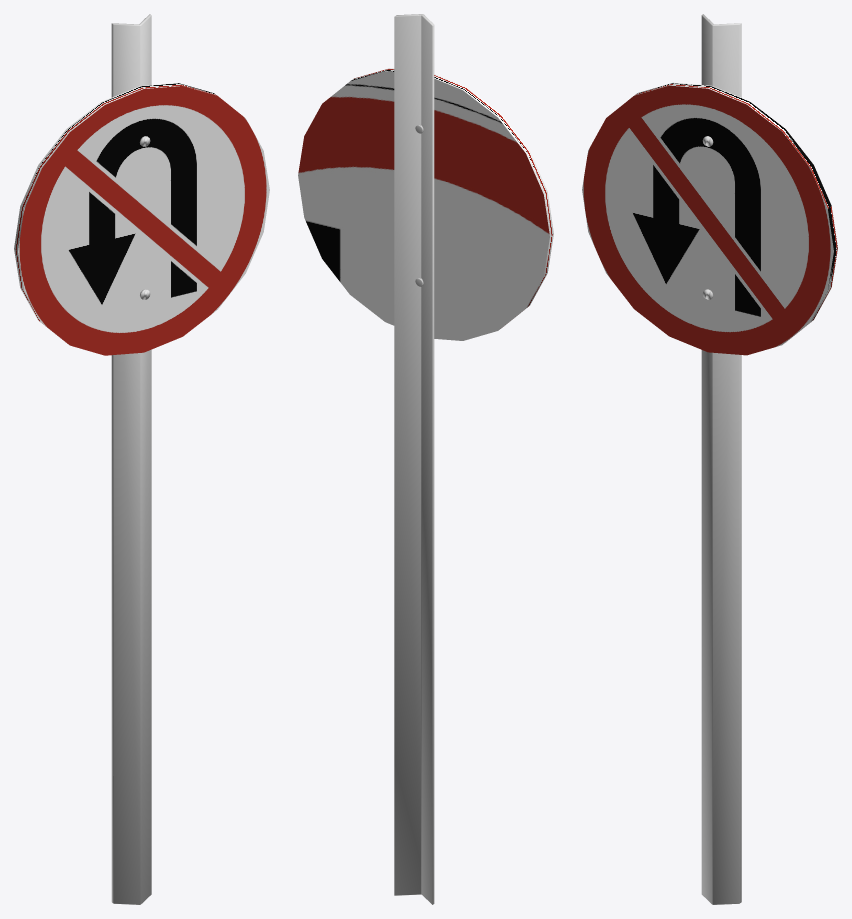
Rendered from jinzhizhuanwan.obj.
3 views of the same model, side by side, from view 1: azimuth 30°, elevation 25°; view 2: azimuth 150°, elevation 25°; view 3: azimuth 330°, elevation 25° (orthographic).
Visible parts, largest first — view 1: Obj3d66_479151_12_512, Obj3d66_479151_24_078; view 2: Obj3d66_479151_12_512, Obj3d66_479151_24_078; view 3: Obj3d66_479151_12_512, Obj3d66_479151_24_078.
Boxes of the visible parts, <box> form: Obj3d66_479151_12_512: <box>14,83,269,355</box>; Obj3d66_479151_24_078: <box>111,14,151,904</box>; Obj3d66_479151_12_512: <box>298,68,553,340</box>; Obj3d66_479151_24_078: <box>394,14,434,904</box>; Obj3d66_479151_12_512: <box>582,82,837,355</box>; Obj3d66_479151_24_078: <box>701,14,741,904</box>.
Size of the model in its own units: 0.892 by 2.98 by 0.0916.
